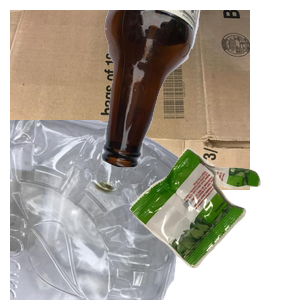cardboard: (10, 10, 250, 190)
glass: (99, 10, 300, 170)
plastic: (10, 120, 197, 300)
trash: (127, 146, 300, 300)
